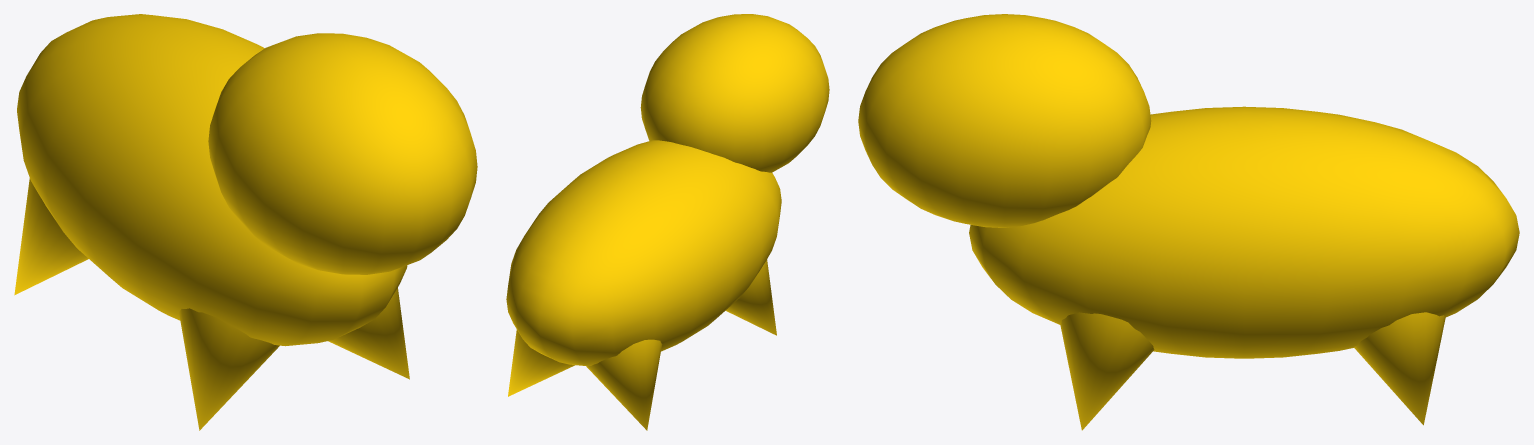
The model's file is Enemy1.fbx.
3 views of the same model, side by side, from view 1: azimuth 30°, elevation 25°; view 2: azimuth 150°, elevation 25°; view 3: azimuth 270°, elevation 25° (orthographic). The views are drawn at different scales.
Parts seen in each view (by area): view 1: pSphere3; view 2: pSphere3; view 3: pSphere3.
Boxes of the visible parts, x1,y1,x2,y2 form: pSphere3: (14,14,477,430); pSphere3: (506,14,829,430); pSphere3: (858,14,1519,430).
Size of the model in its own units: 0.515 by 0.7385 by 1.24.
